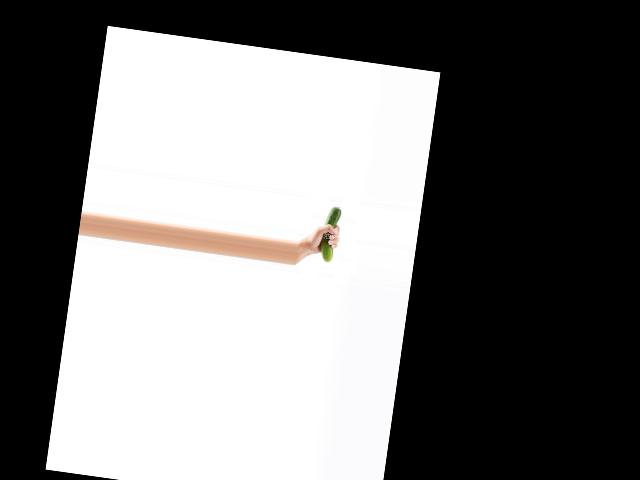cucumber: (318, 205, 342, 262)
